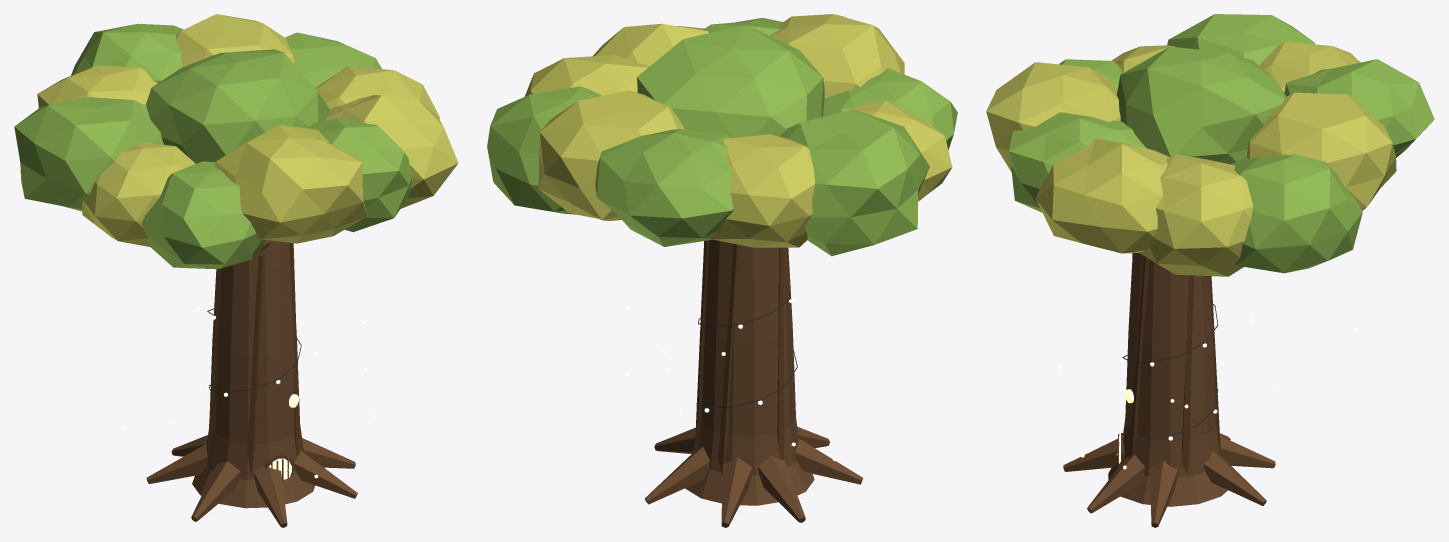
The model's file is for_tree_ancient_v01.glb.
The picture shows the model from 3 angles, left to right: view 1: azimuth 30°, elevation 25°; view 2: azimuth 150°, elevation 25°; view 3: azimuth 270°, elevation 25°; orthographic projection. The views are drawn at different scales.
Parts seen in each view (by area): view 1: canopy, trunk; view 2: canopy, trunk; view 3: canopy, trunk.
Part boxes in pixels (x1=…): canopy: x1=14, y1=14, x2=458, y2=269; trunk: x1=121, y1=240, x2=375, y2=527; canopy: x1=487, y1=14, x2=957, y2=256; trunk: x1=625, y1=239, x2=863, y2=527; canopy: x1=986, y1=14, x2=1434, y2=276; trunk: x1=1058, y1=253, x2=1357, y2=527.
Bounding box in the file's own units: 14.02 × 14.49 × 13.99.
